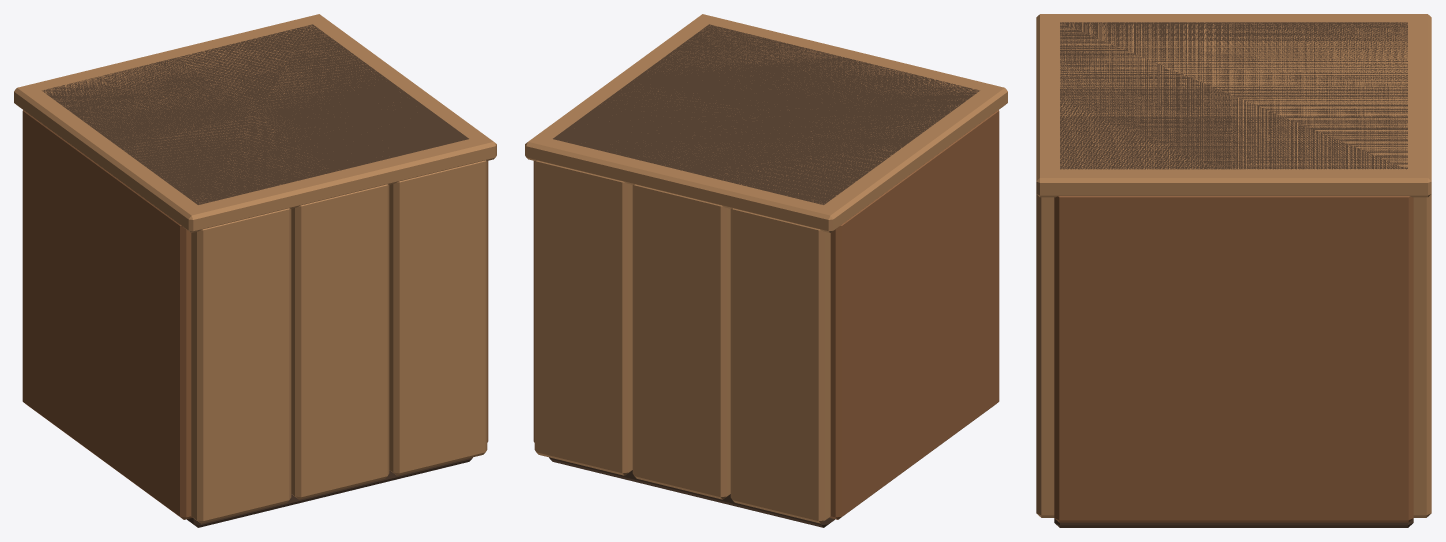
Rendered from crate.glb.
3 views of the same model, side by side, from view 1: azimuth 30°, elevation 25°; view 2: azimuth 150°, elevation 25°; view 3: azimuth 270°, elevation 25° (orthographic). The views are drawn at different scales.
Parts seen in each view (by area): view 1: Alfa_crate; view 2: Alfa_crate; view 3: Alfa_crate.
Part boxes in pixels (x1,y1,x2,y2): Alfa_crate: (14, 14, 496, 527); Alfa_crate: (525, 14, 1007, 527); Alfa_crate: (1036, 14, 1431, 527).
Size of the model in its own units: 0.55 by 0.55 by 0.55.
